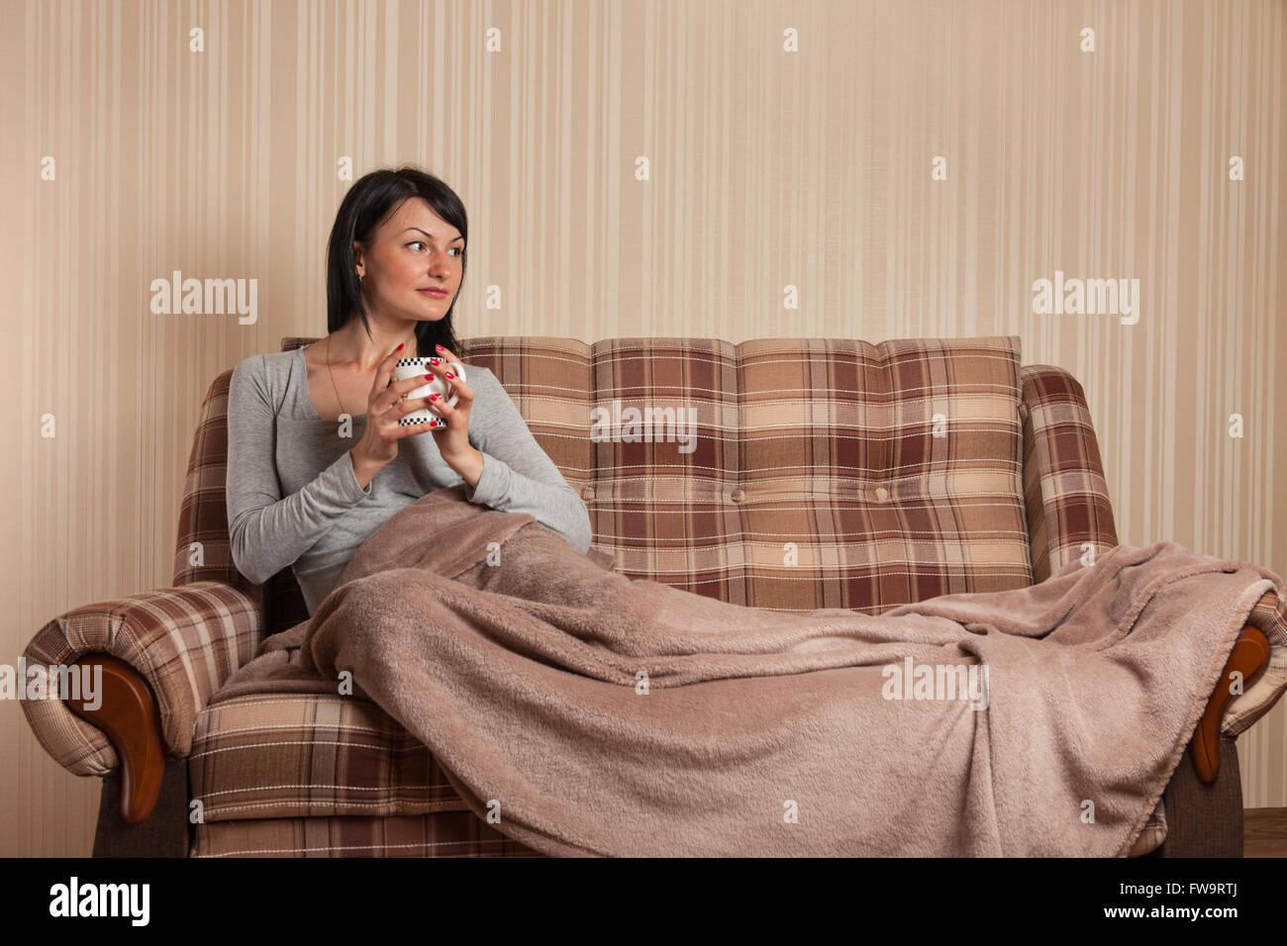blanket: (206, 489, 1287, 858)
long sleeve shirt: (219, 344, 596, 622)
